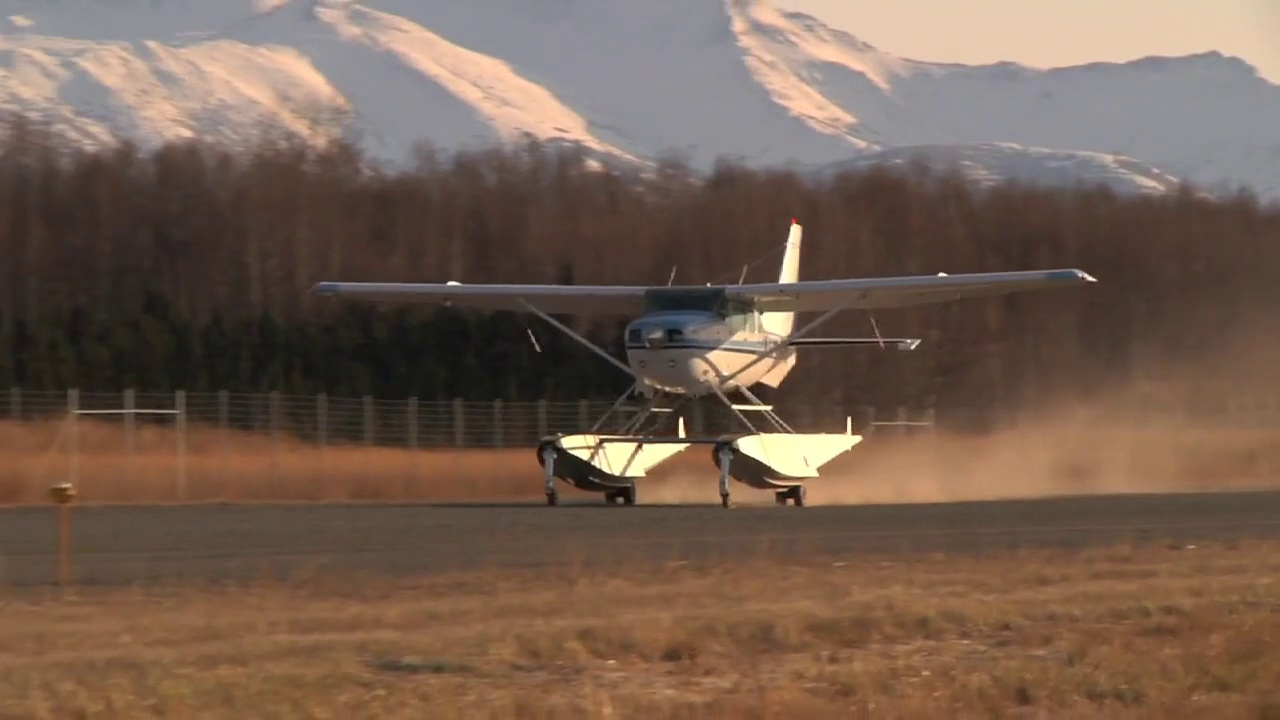plane: (298, 219, 1098, 506)
